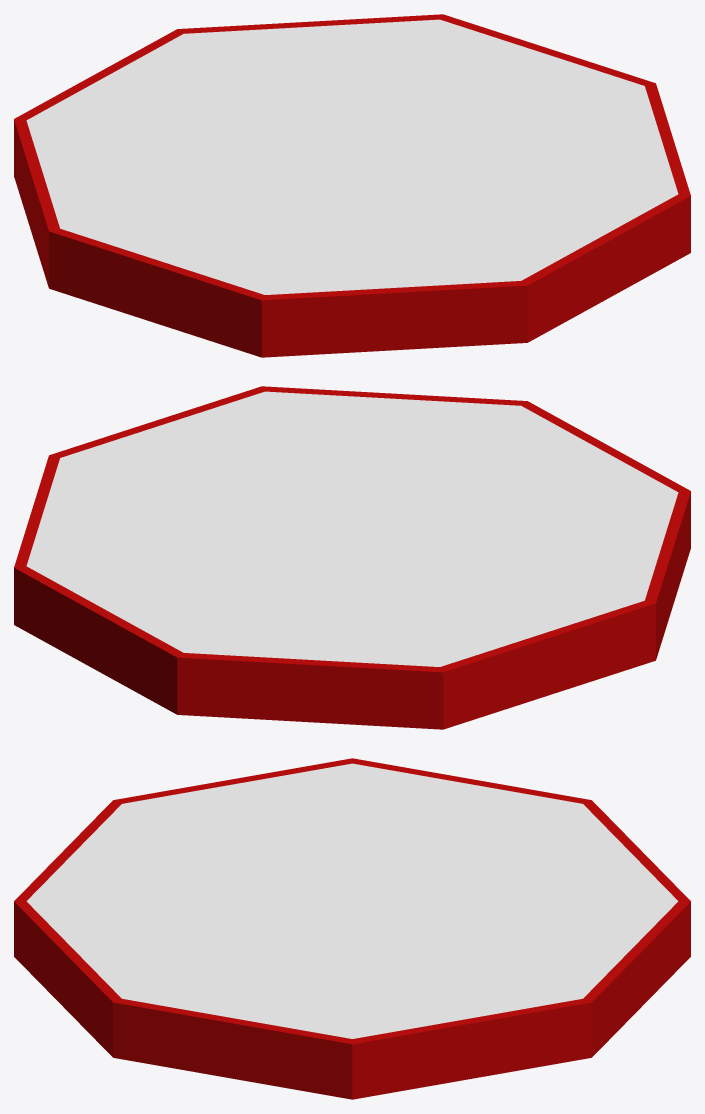
File: radish03.obj
3 renders of one model, top to bottom at view 1: azimuth 30°, elevation 25°; view 2: azimuth 150°, elevation 25°; view 3: azimuth 270°, elevation 25°, orthographic. The views are drawn at different scales.
Visible parts, largest first — view 1: Cylinder; view 2: Cylinder; view 3: Cylinder.
Boxes of the visible parts, left/top/right/bottom form: Cylinder: left=14, top=14, right=690, bottom=357; Cylinder: left=14, top=386, right=690, bottom=729; Cylinder: left=14, top=758, right=690, bottom=1099.
Size of the model in its own units: 0.0594 by 0.00535 by 0.0594.
1 material, 1 textured.
